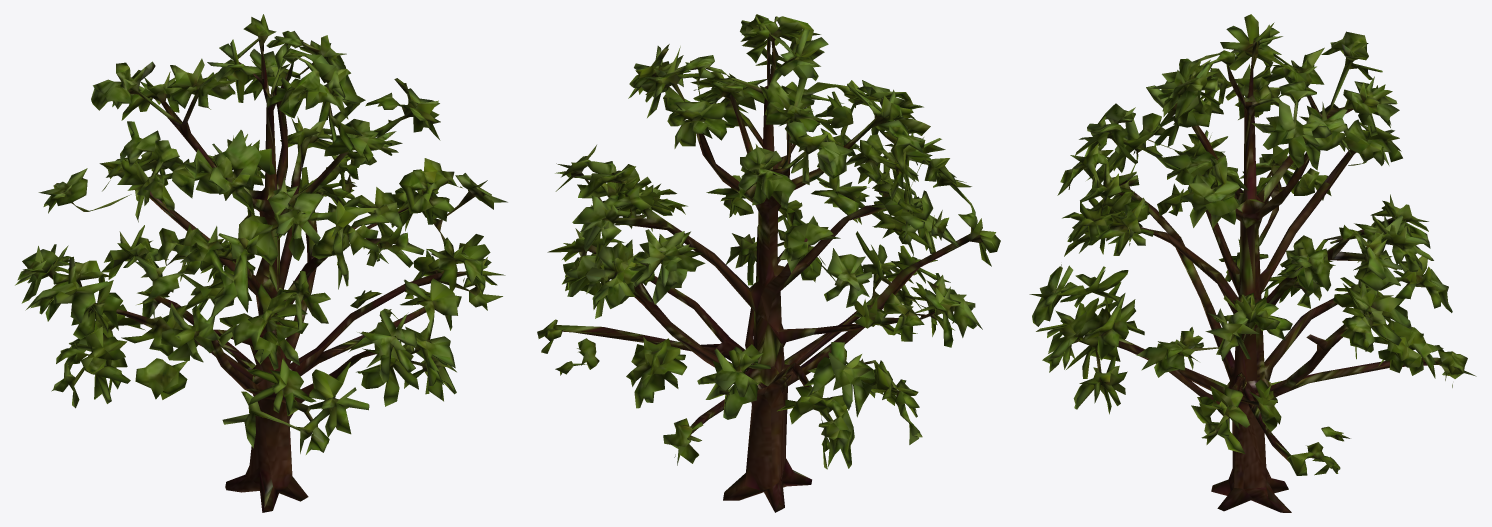
Rendered from tree.glb.
The picture shows the model from 3 angles, left to right: view 1: azimuth 30°, elevation 25°; view 2: azimuth 150°, elevation 25°; view 3: azimuth 270°, elevation 25°; orthographic projection.
Visible parts, largest first — view 1: tripo_node_cd536999; view 2: tripo_node_cd536999; view 3: tripo_node_cd536999.
Part boxes in pixels (box(x1,y1,x2,y2)): tripo_node_cd536999: box(15, 14, 507, 512); tripo_node_cd536999: box(537, 14, 1000, 512); tripo_node_cd536999: box(1029, 14, 1476, 512).
Size of the model in its own units: 0.9564 by 0.9589 by 0.8113.
Materials: 1 (1 with a texture image).
